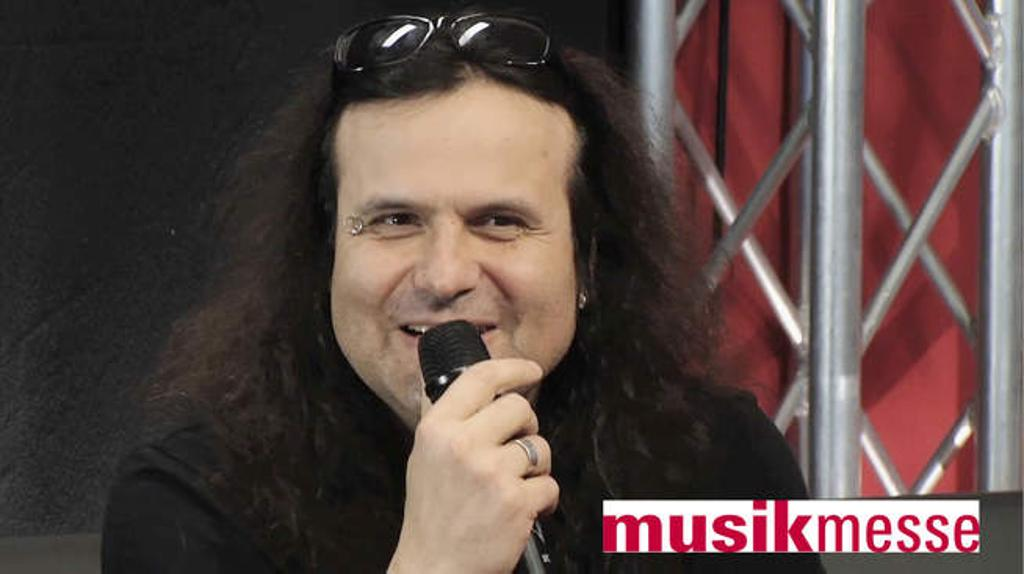face: (334, 94, 574, 422)
